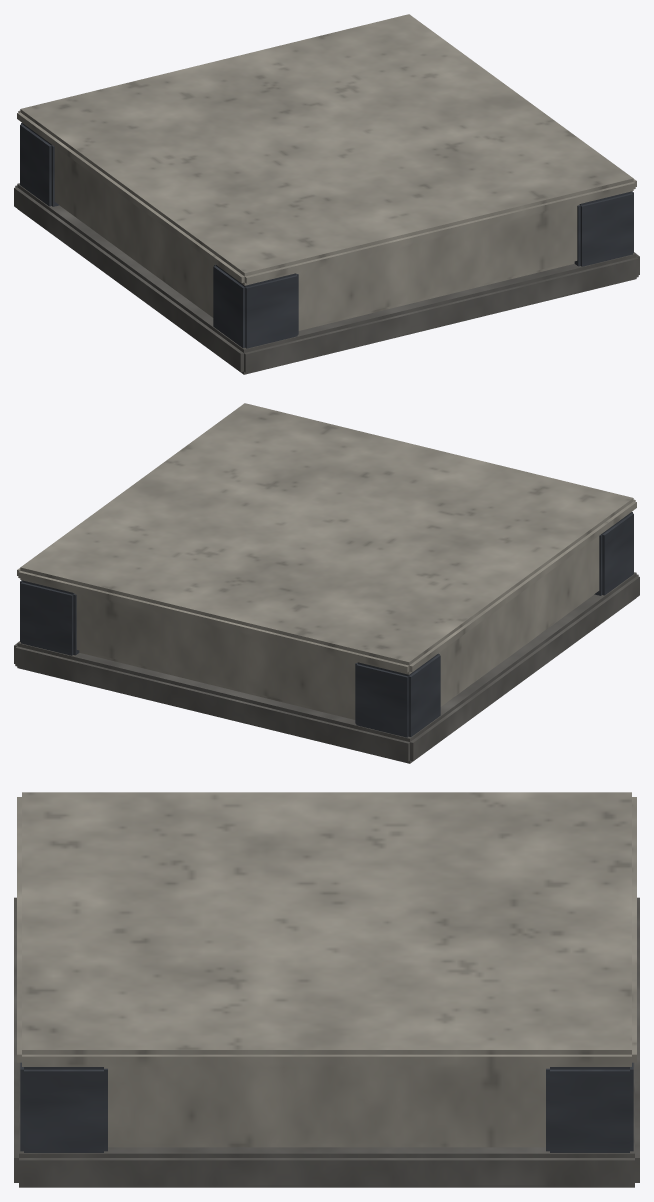
File: found_concrete.glb
3 renders of one model, top to bottom at view 1: azimuth 30°, elevation 25°; view 2: azimuth 150°, elevation 25°; view 3: azimuth 270°, elevation 25°, orthographic. The views are drawn at different scales.
Visible parts, largest first — view 1: found_concrete; view 2: found_concrete; view 3: found_concrete.
Part boxes in pixels (x1,y1,x2,y2): found_concrete: (14, 14, 639, 374); found_concrete: (14, 403, 639, 763); found_concrete: (14, 792, 639, 1187).
Bounding box in the file's own units: 1 × 0.24 × 1.
Materials: 4 (4 with a texture image).
